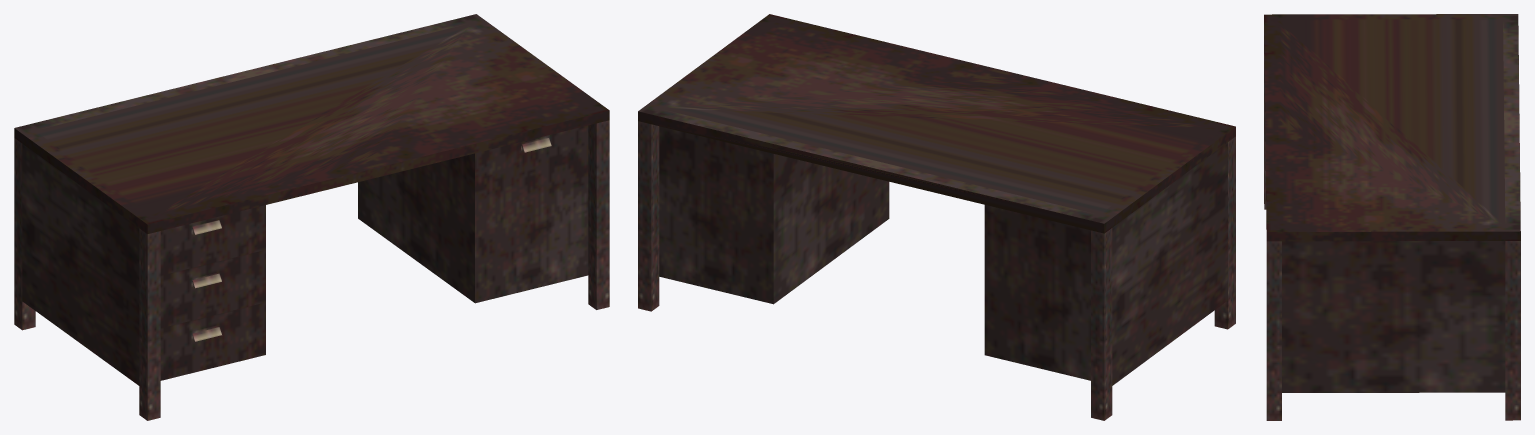
Rendered from desk2_alt_weathered.obj.
3 renders of one model, left to right at view 1: azimuth 30°, elevation 25°; view 2: azimuth 150°, elevation 25°; view 3: azimuth 270°, elevation 25°, orthographic. The views are drawn at different scales.
Parts seen in each view (by area): view 1: desk2_alt_weathered; view 2: desk2_alt_weathered; view 3: desk2_alt_weathered.
Boxes of the visible parts, x1,y1,x2,y2 form: desk2_alt_weathered: (14, 14, 609, 420); desk2_alt_weathered: (638, 14, 1235, 420); desk2_alt_weathered: (1264, 14, 1520, 420).
Bounding box in the file's own units: 2.21 × 0.8911 × 1.1.
